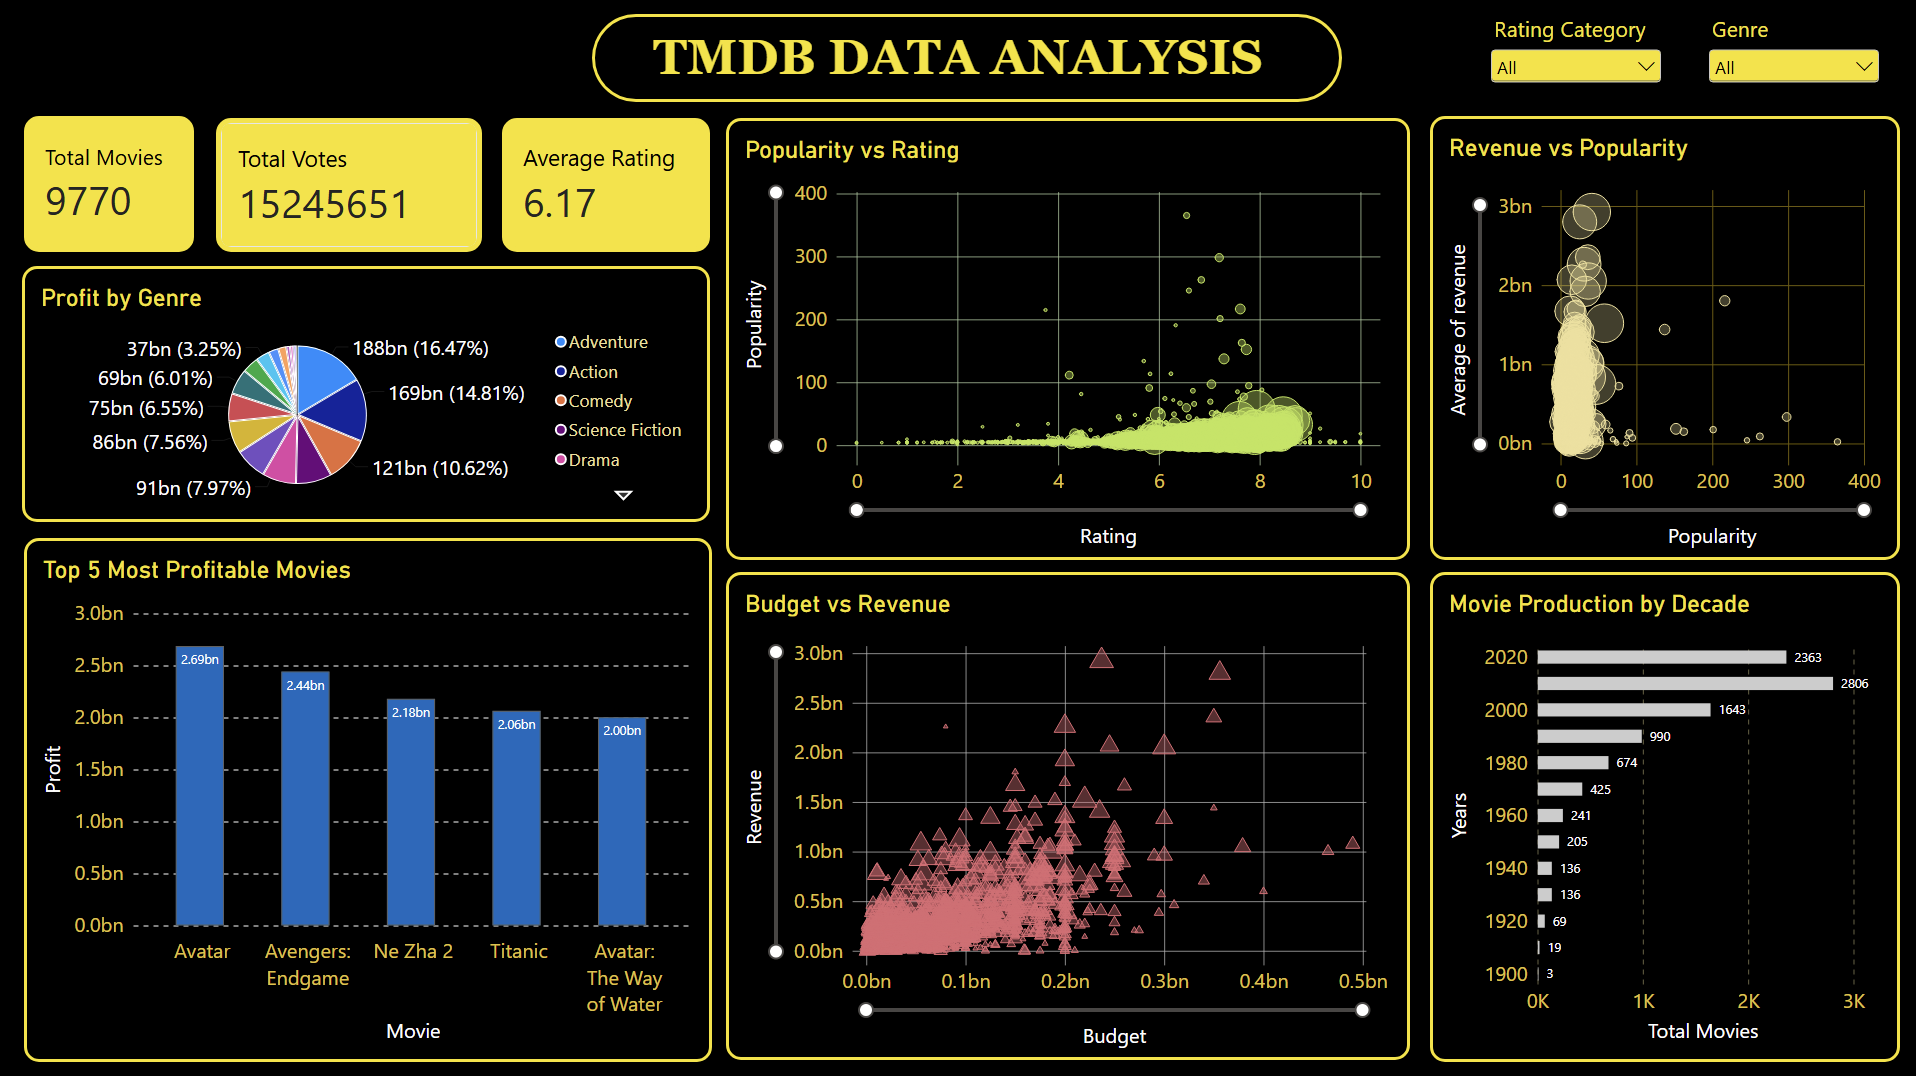

What the dashboard file says about the page in this screenshot:
{"tool":"powerbi","page":{"name":"TMDB Data Analysis","canvas":[1920,1080],"ordinal":0},"visuals":[{"type":"shape","box":[0,0,1920,118],"z":0},{"type":"shape","box":[594,16,750,88],"z":1000},{"type":"shape","box":[0,104,1920,976],"z":2000},{"type":"cardVisual","fields":{"Data":["genres.total_movies"]},"box":[26,118,170,136],"z":3000},{"type":"cardVisual","fields":{"Data":["genres.average_rating"]},"box":[504,120,208,134],"z":4000},{"type":"cardVisual","fields":{"Data":["genres.total_votes"]},"box":[218,120,266,134],"z":5000},{"type":"barChart","title":"Movie Production by Decade","fields":{"Category":["movies.decade"],"Y":["CountNonNull(movies.id)"]},"box":[1432,574,470,490],"z":6000},{"type":"scatterChart","title":"Popularity vs Rating","fields":{"Category":["movies.id"],"Size":["Sum(movies.vote_count)"],"X":["Avg(movies.vote_average)"],"Y":["Avg(movies.popularity)"]},"box":[728,120,684,442],"z":7000},{"type":"scatterChart","title":"Revenue vs Popularity","fields":{"Category":["movies.id"],"Size":["Sum(movies.vote_count)"],"X":["Avg(movies.popularity)"],"Y":["Avg(movies.revenue)"]},"box":[1432,118,470,444],"z":8000},{"type":"scatterChart","title":"Budget vs Revenue","fields":{"Category":["movies.id"],"Size":["Sum(movies.vote_count)"],"X":["Sum(movies.budget)"],"Y":["Sum(movies.revenue)"]},"box":[728,574,684,488],"z":9000},{"type":"columnChart","title":"Top 5 Most Profitable Movies","fields":{"Category":["movies.title"],"Y":["Sum(movies.profit)"]},"box":[26,540,688,524],"z":10000},{"type":"slicer","fields":{"Values":["genres.genre"]},"box":[1706,16,180,88],"z":11000},{"type":"slicer","fields":{"Values":["movies.rating_category"]},"box":[1488,16,180,88],"z":12000},{"type":"pieChart","title":"Profit by Genre","fields":{"Category":["genres.genre"],"Y":["Sum(movies.profit)"]},"box":[24,268,688,256],"z":14000}]}

Visuals, with their boxes in screenshot pixels (x1, y1, x2, y2), scaled from the page's 1920x1080 canvas onto the 1916x1076 screenshot:
shape: select_region(0, 0, 1915, 118)
shape: select_region(593, 16, 1341, 104)
shape: select_region(0, 104, 1915, 1075)
cardVisual - genres.total_movies: select_region(26, 118, 196, 253)
cardVisual - genres.average_rating: select_region(503, 120, 711, 253)
cardVisual - genres.total_votes: select_region(218, 120, 483, 253)
"Movie Production by Decade" barChart: select_region(1429, 572, 1898, 1060)
"Popularity vs Rating" scatterChart: select_region(726, 120, 1409, 560)
"Revenue vs Popularity" scatterChart: select_region(1429, 118, 1898, 560)
"Budget vs Revenue" scatterChart: select_region(726, 572, 1409, 1058)
"Top 5 Most Profitable Movies" columnChart: select_region(26, 538, 713, 1060)
slicer - genres.genre: select_region(1702, 16, 1882, 104)
slicer - movies.rating_category: select_region(1485, 16, 1665, 104)
"Profit by Genre" pieChart: select_region(24, 267, 711, 522)
